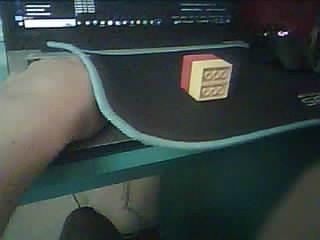lego: (180, 54, 232, 102)
